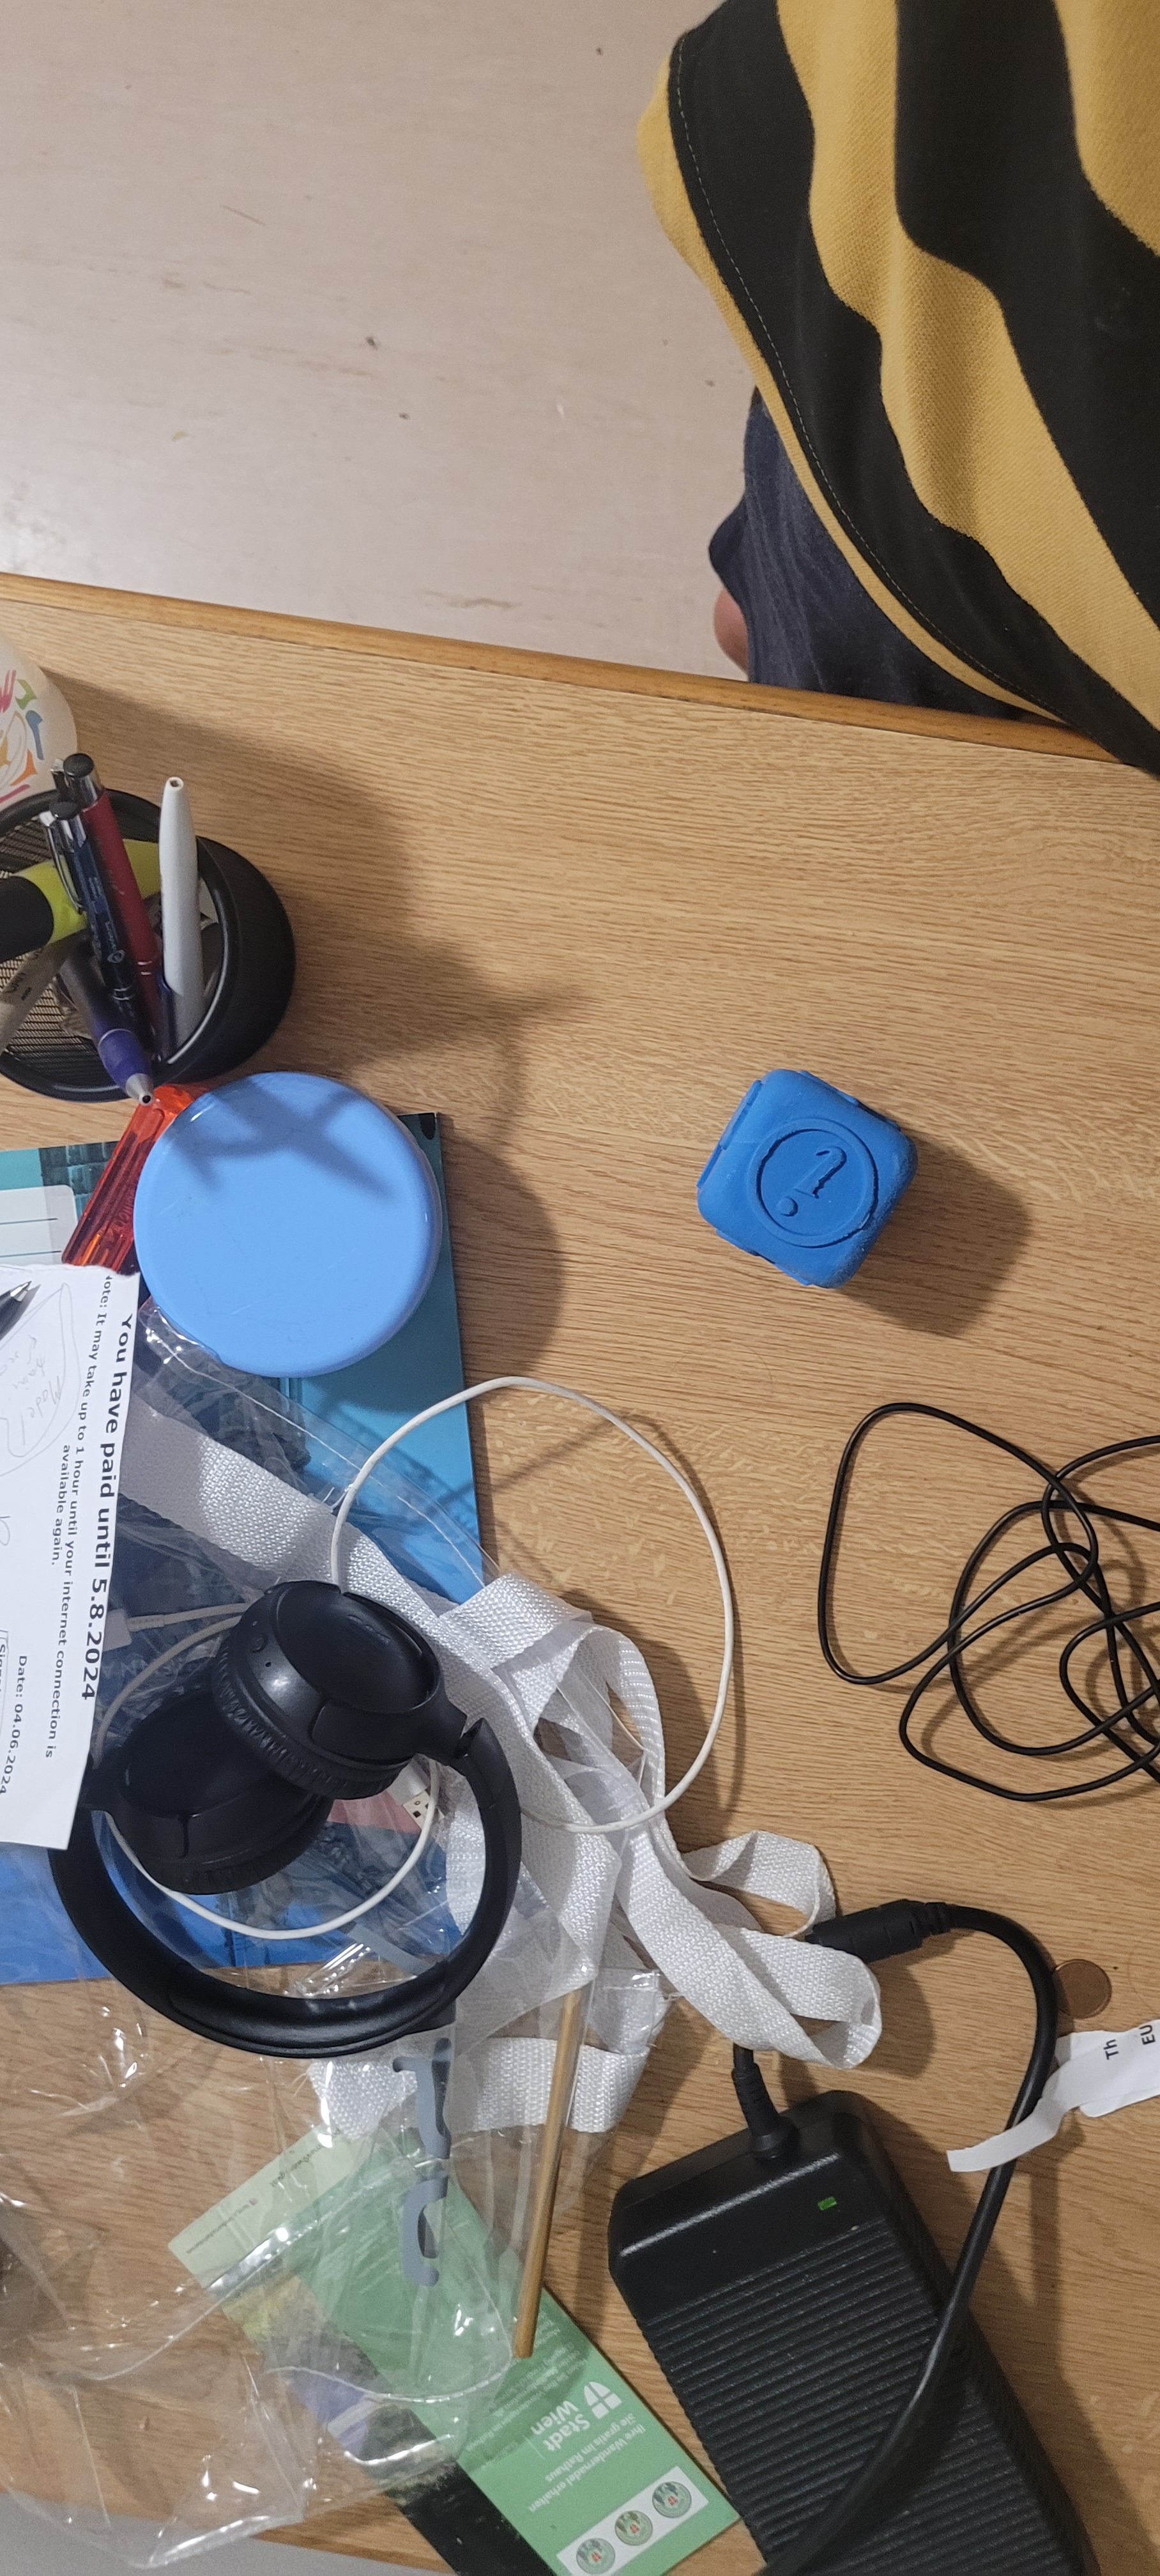Info: (731, 1099, 887, 1272)
